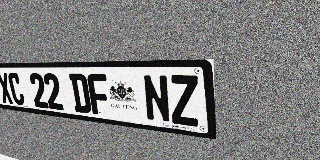2: (42, 73, 64, 110), (29, 73, 49, 109)
C: (7, 73, 26, 106)
D: (69, 73, 92, 114)
F: (87, 74, 111, 116)
N: (142, 75, 171, 123)
X: (0, 72, 14, 104)
Z: (169, 75, 200, 127)
